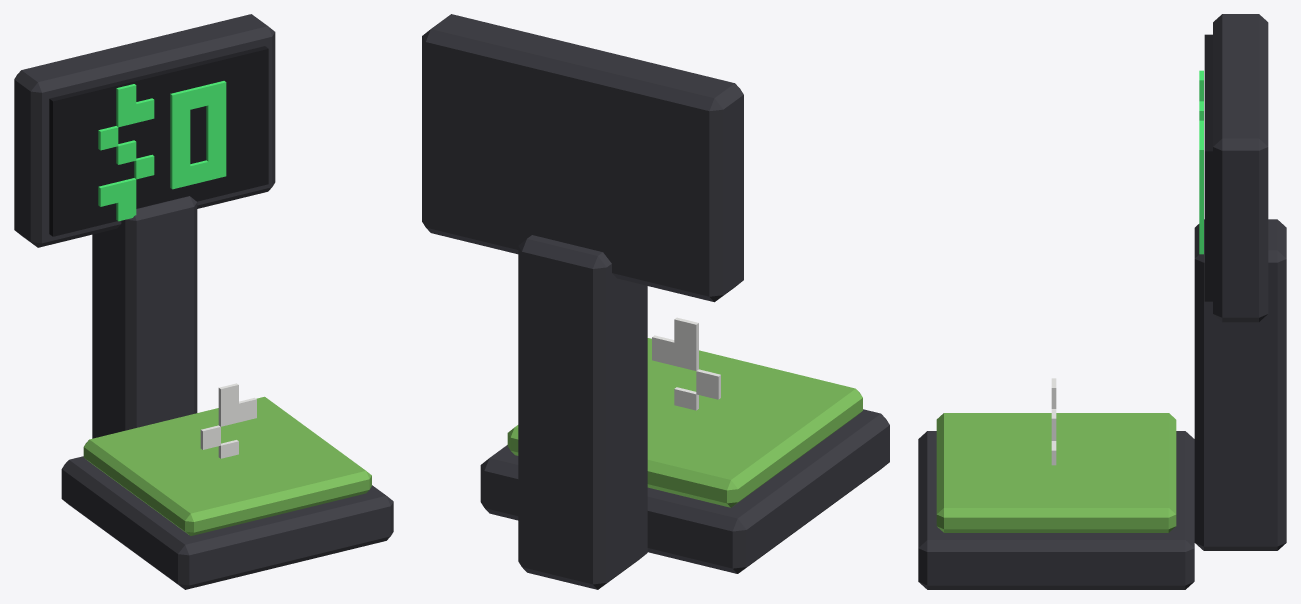
File: CashCollector.fbx
3 renders of one model, left to right at view 1: azimuth 30°, elevation 25°; view 2: azimuth 150°, elevation 25°; view 3: azimuth 270°, elevation 25°, orthographic. The views are drawn at different scales.
Parts seen in each view (by area): view 1: CashCollector, CashCollector_Button; view 2: CashCollector, CashCollector_Button; view 3: CashCollector, CashCollector_Button.
Part boxes in pixels (<box>): CashCollector: <box>14,14,393,589</box>; CashCollector_Button: <box>83,383,371,535</box>; CashCollector: <box>422,14,889,589</box>; CashCollector_Button: <box>507,317,862,507</box>; CashCollector: <box>918,14,1286,589</box>; CashCollector_Button: <box>936,378,1176,532</box>.
Size of the model in its own units: 3.4 by 5.5 by 4.
Materials: 1 (1 with a texture image).
